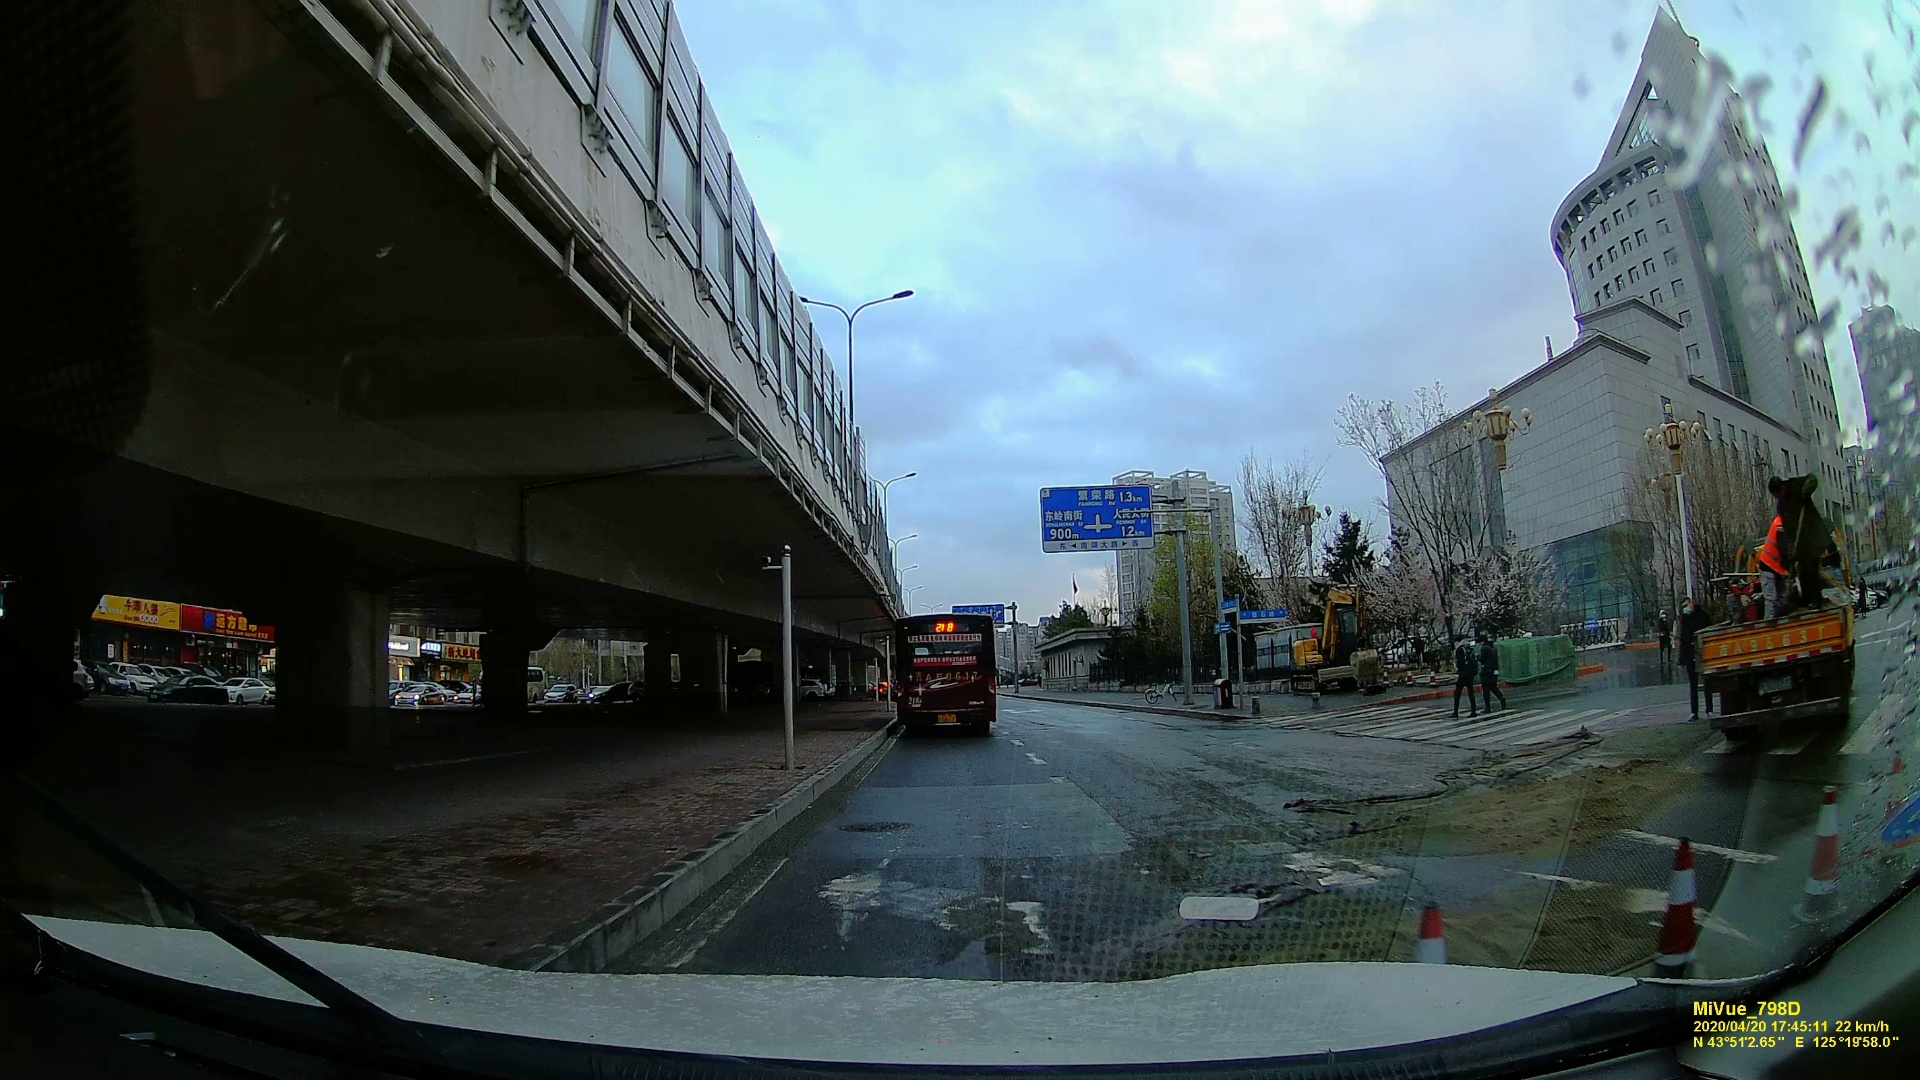bus: (897, 615, 999, 737)
person: (1669, 596, 1713, 712), (1472, 632, 1507, 714), (1448, 637, 1476, 718)
traffic_sign: (1036, 490, 1151, 547)
truck: (1698, 491, 1859, 749)
vehicle: (220, 676, 262, 701)
